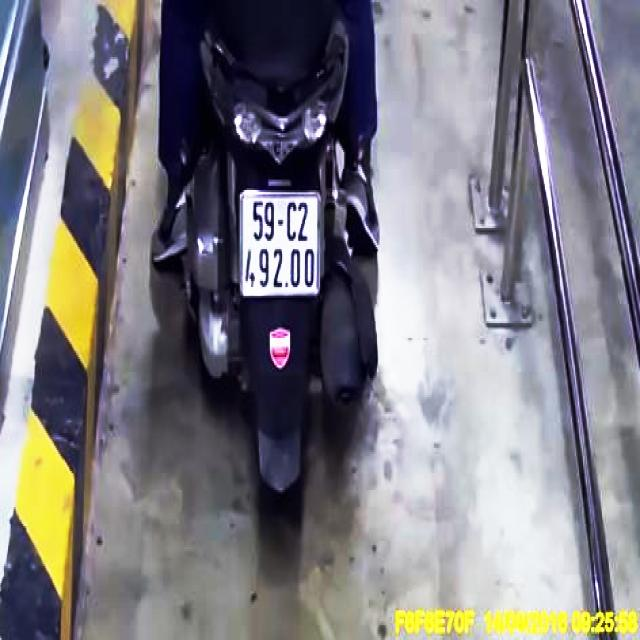license_plate: (241, 191, 320, 296)
